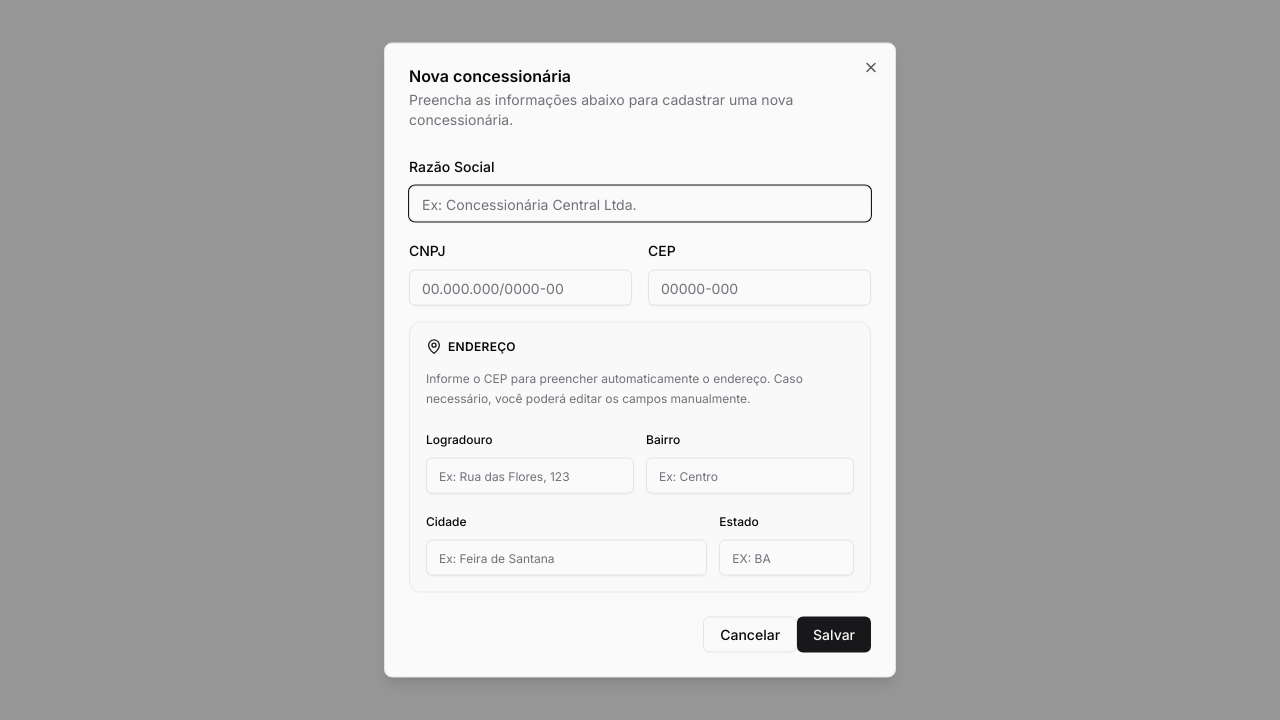
Test: DealerFormDialog › should show validation errors when submitting empty form
Click the button "Salvar" at (834, 634), box [797,616,871,652]
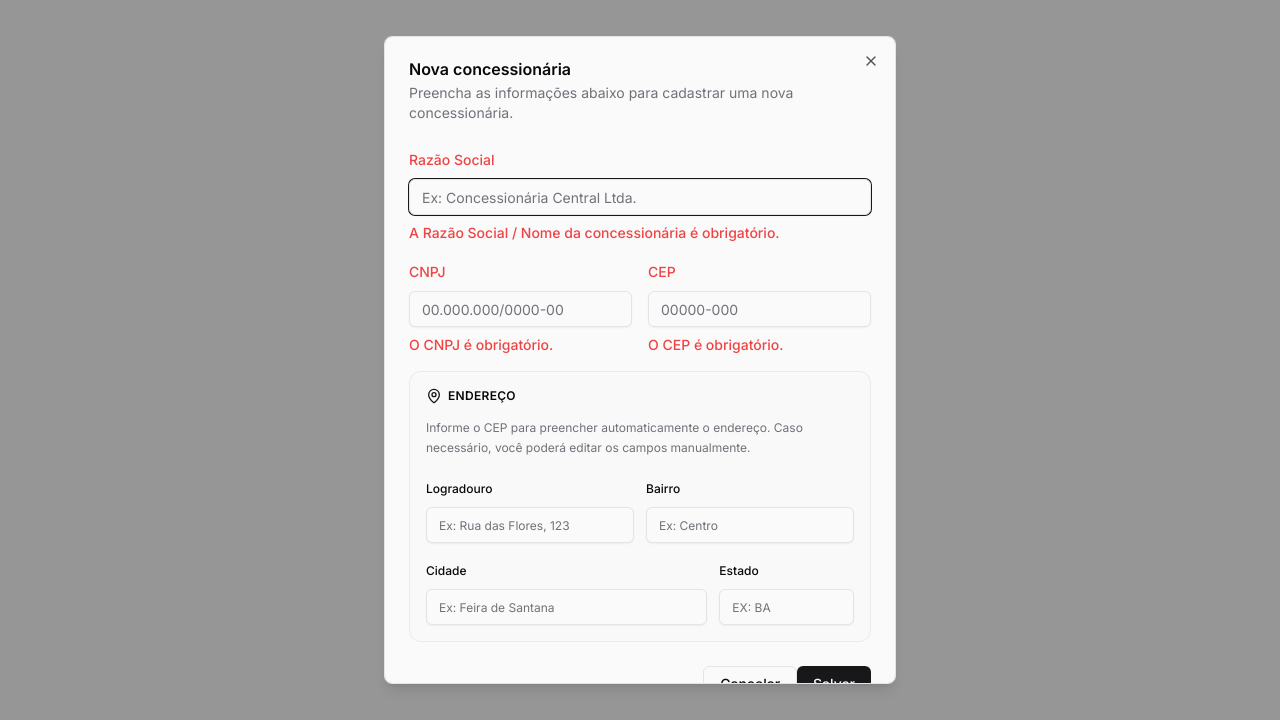
Expected: the text "A Razão Social / Nome da concessionária é obrigatório." is shown, [409,224,780,241]
Expected: the text "O CNPJ é obrigatório." is shown, [409,336,553,353]
Expected: the text "O CEP é obrigatório." is shown, [648,336,784,353]
